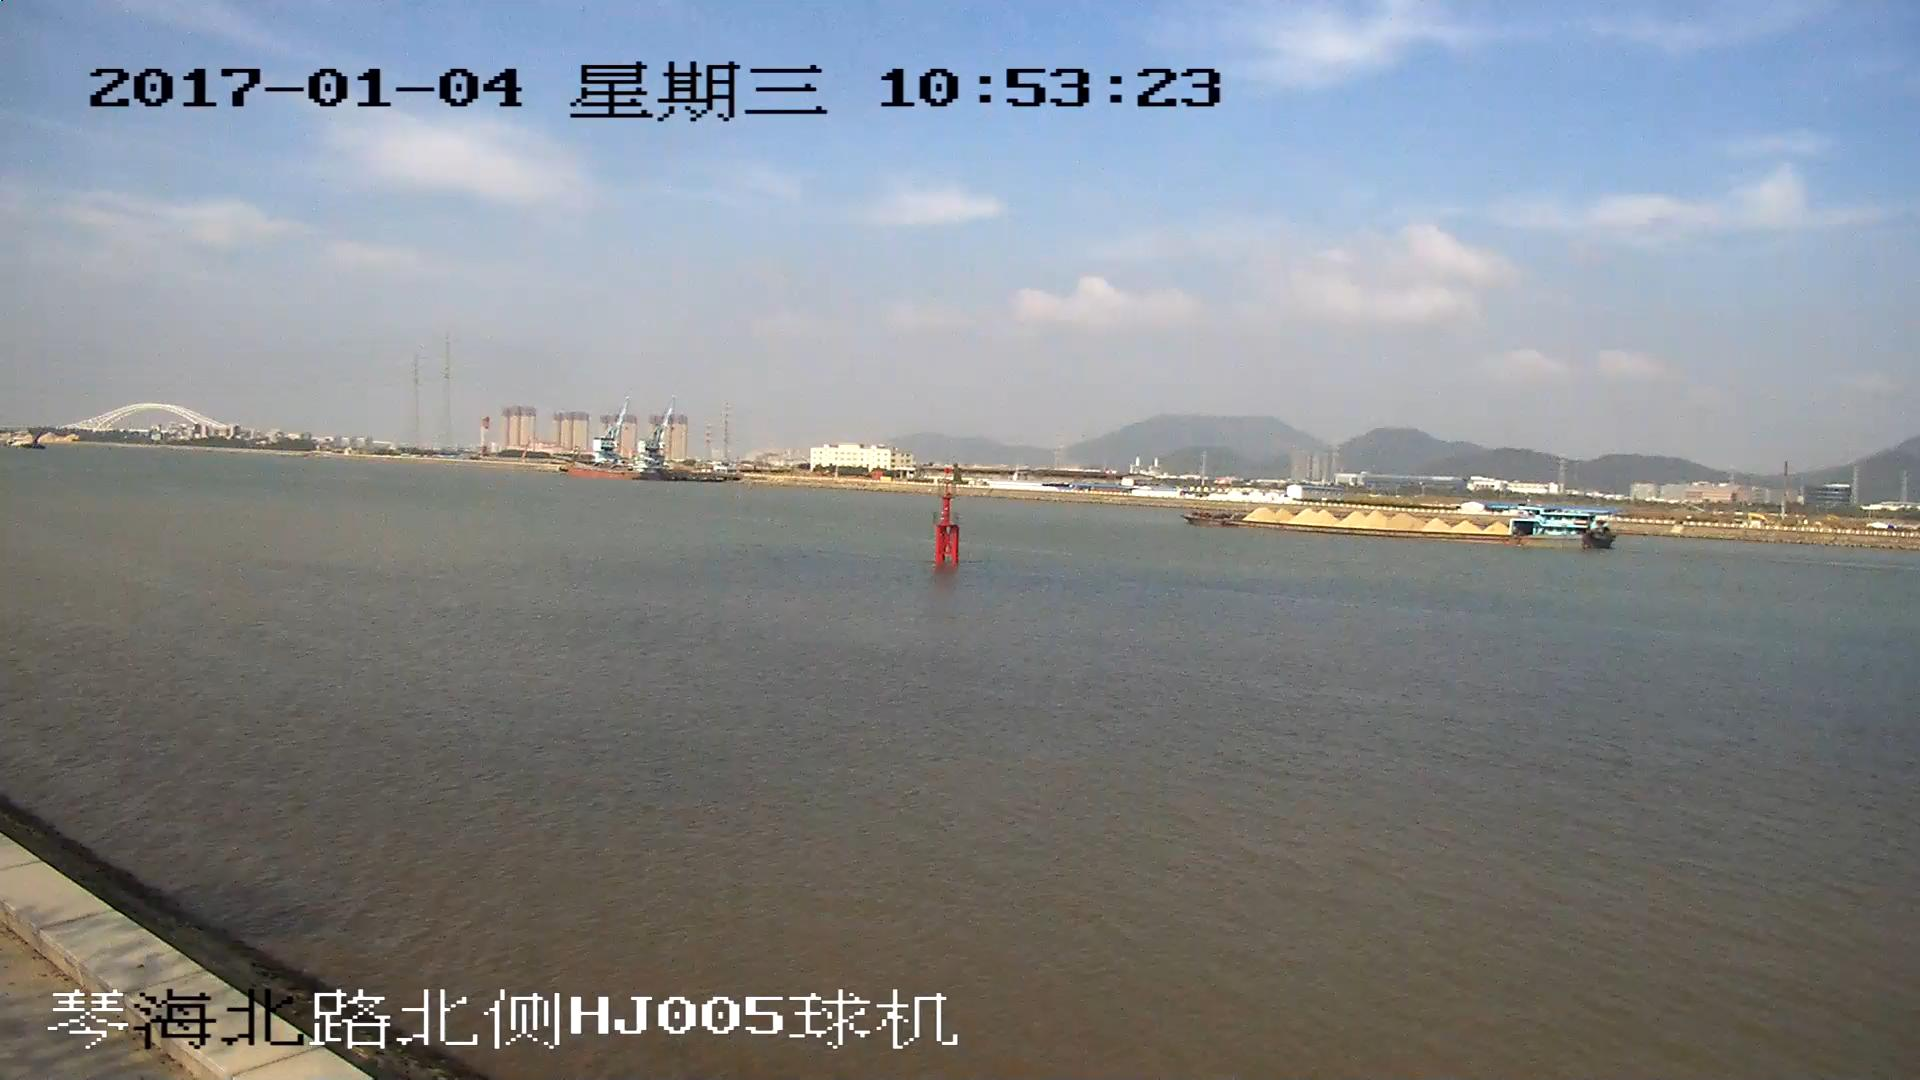ore carrier: (1185, 503, 1617, 548)
